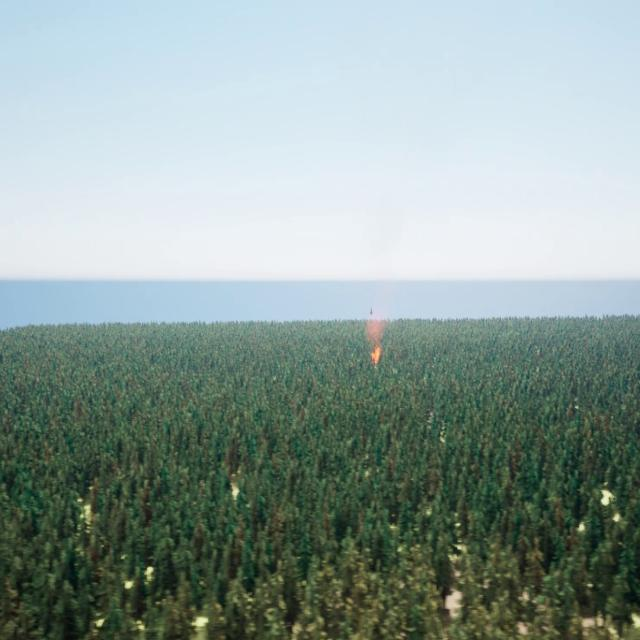fire: (370, 344, 383, 366)
smoke: (366, 306, 387, 349)
